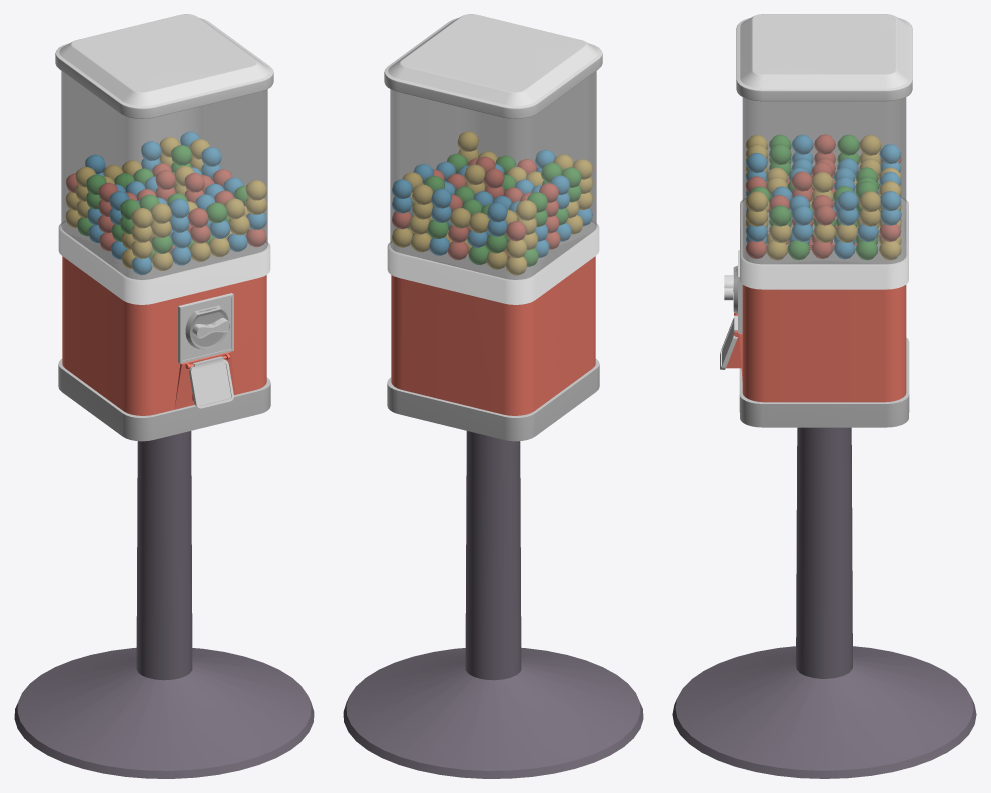
File: Candy_Machine_02.fbx
3 views of the same model, side by side, from view 1: azimuth 30°, elevation 25°; view 2: azimuth 150°, elevation 25°; view 3: azimuth 270°, elevation 25° (orthographic).
Visible parts, largest first — view 1: polySurface58; view 2: polySurface58; view 3: polySurface58.
Part boxes in pixels (left/top/right/bottom): polySurface58: left=14, top=14, right=314, bottom=778; polySurface58: left=343, top=14, right=643, bottom=778; polySurface58: left=672, top=14, right=976, bottom=778.
Size of the model in its own units: 33.92 by 82.51 by 33.92.
Materials: 2 (1 with a texture image).
